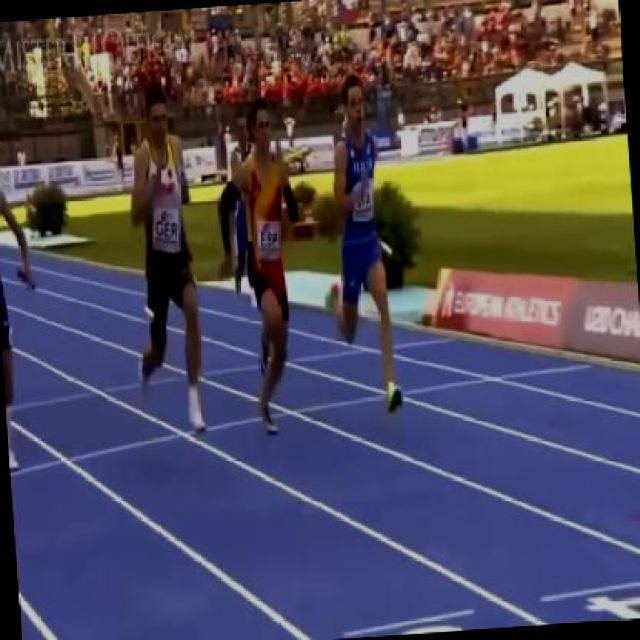non-fight: (310, 68, 404, 420), (120, 83, 212, 442), (226, 90, 314, 444)
